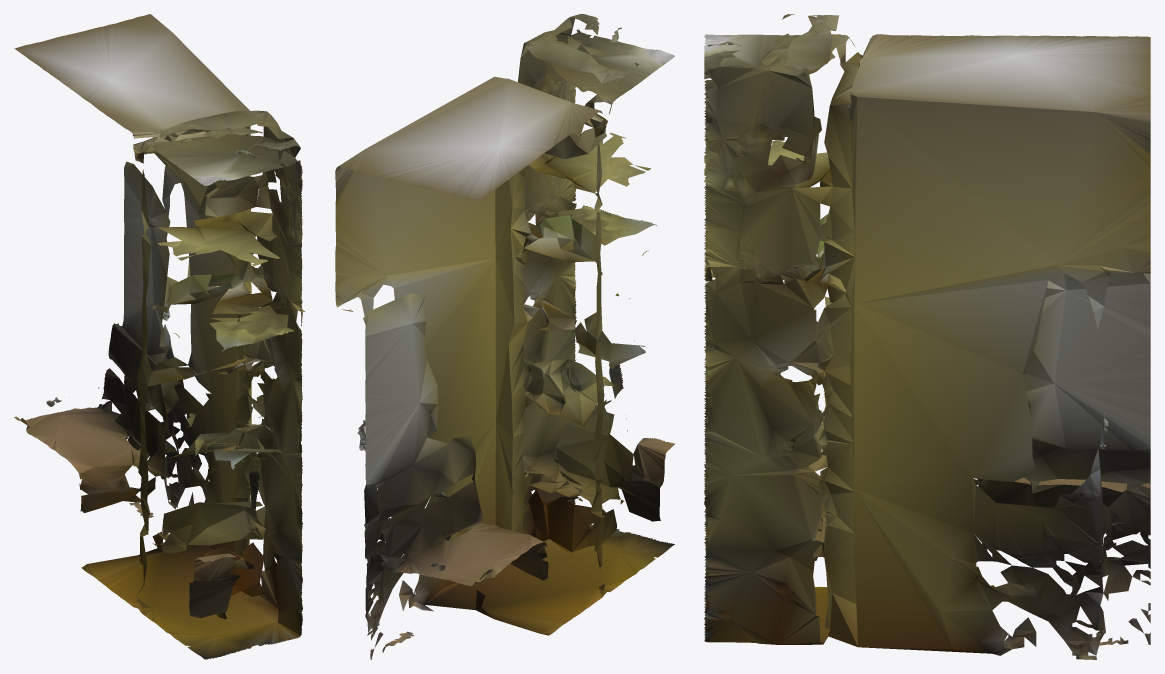
The model's file is coarse.glb.
3 views of the same model, side by side, from view 1: azimuth 30°, elevation 25°; view 2: azimuth 150°, elevation 25°; view 3: azimuth 270°, elevation 25° (orthographic). The views are drawn at different scales.
Bounding box in the file's own units: 0.8382 × 2.82 × 1.98.
